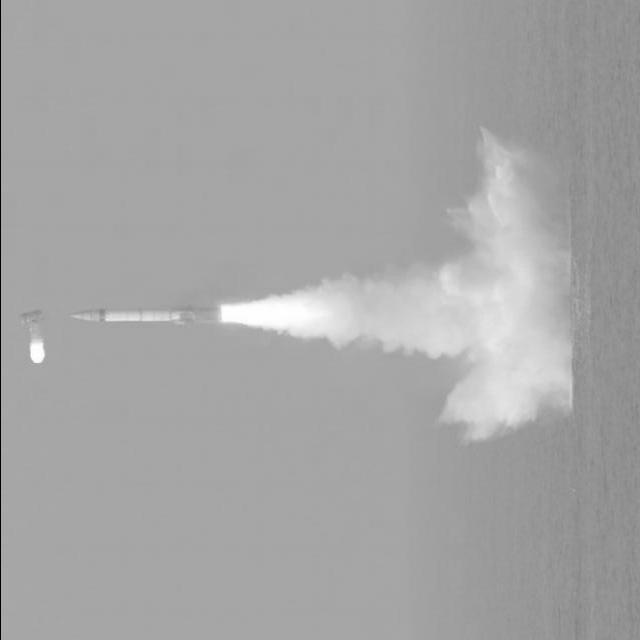Missile: (64, 301, 235, 328)
